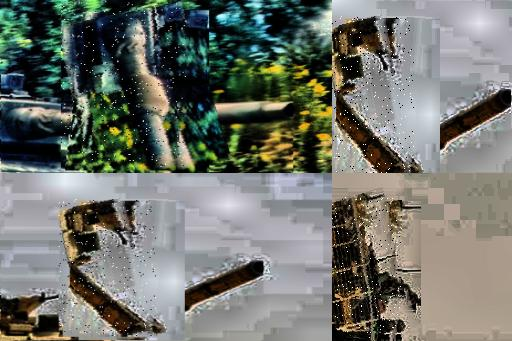tanks: (62, 2, 186, 171), (60, 201, 157, 337), (333, 18, 413, 174), (333, 198, 402, 341), (184, 172, 206, 174)
